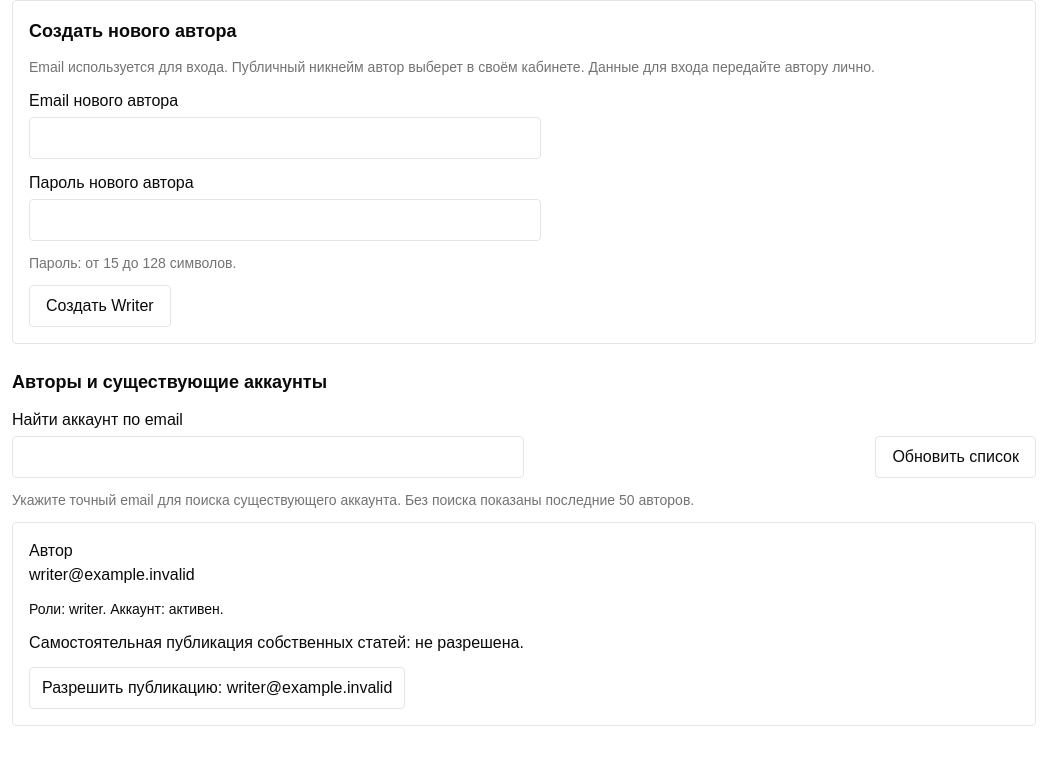
Test case: Writer management UI › treats a server failure after a write as uncertain until GET reconciliation
Step 1. Click the button "Разрешить публикацию: writer@example.invalid" → (217, 688), box top-left (29, 667), bottom-right (405, 709)
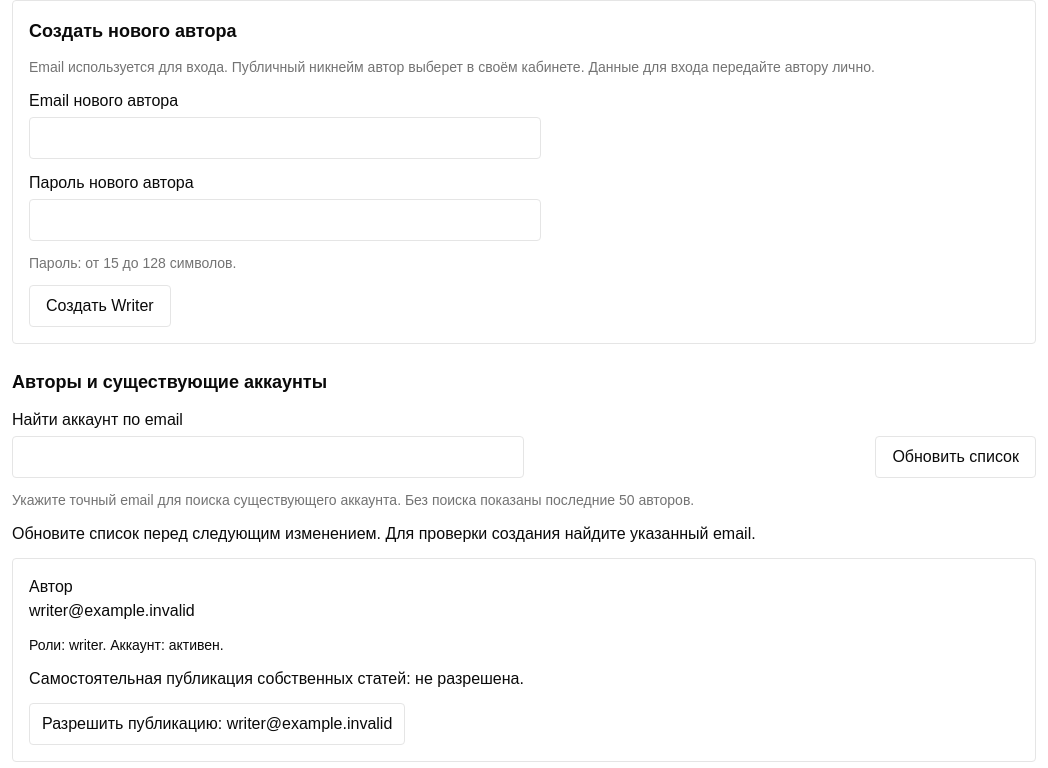
Expected: the message shows "Обновите список", top-left (12, 525), bottom-right (756, 542)
